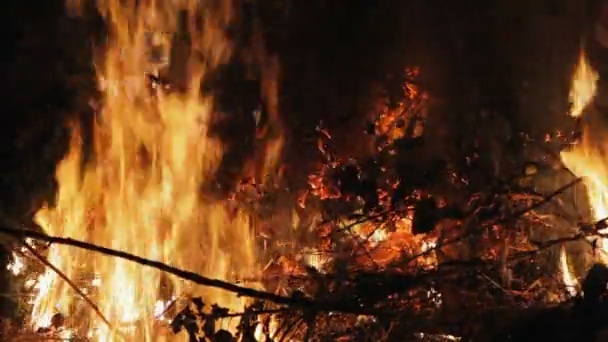fire: (9, 1, 247, 342), (563, 140, 608, 264), (564, 61, 600, 114), (558, 247, 579, 300), (255, 316, 277, 342)
